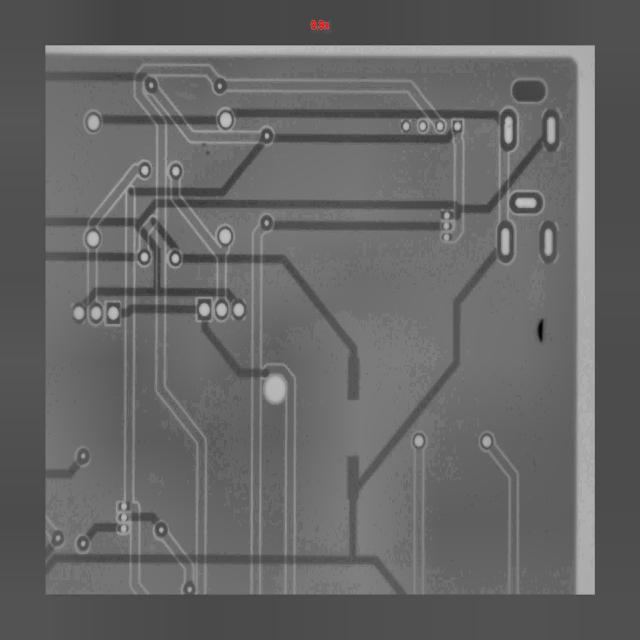Both: (261, 372, 289, 406), (512, 80, 546, 103), (542, 110, 561, 151), (497, 220, 514, 263), (510, 192, 543, 214), (500, 110, 517, 152), (540, 221, 556, 263), (151, 519, 171, 542), (478, 432, 497, 453), (84, 112, 102, 133), (218, 110, 235, 131), (84, 229, 101, 249), (75, 534, 92, 554), (197, 300, 212, 321), (106, 302, 121, 323), (218, 226, 233, 246), (211, 77, 227, 94), (169, 162, 183, 181), (76, 448, 90, 467), (89, 305, 102, 324), (72, 304, 86, 321), (50, 530, 64, 547), (215, 300, 228, 318), (169, 249, 182, 267), (117, 500, 132, 515), (139, 162, 152, 179), (145, 77, 158, 94), (232, 301, 245, 317), (261, 128, 274, 144), (140, 250, 150, 267), (414, 435, 425, 449), (119, 522, 130, 536), (184, 580, 195, 593), (120, 512, 130, 526), (261, 215, 271, 228), (453, 120, 462, 133), (436, 121, 444, 133), (419, 121, 427, 132), (443, 211, 452, 220), (443, 222, 452, 230), (403, 122, 410, 131), (443, 234, 451, 241)
L1: (37, 224, 631, 640), (43, 94, 561, 342), (178, 204, 386, 430), (125, 133, 278, 231), (188, 318, 273, 392), (231, 106, 499, 124), (271, 128, 455, 145), (272, 221, 442, 231), (148, 217, 180, 254), (101, 114, 219, 124), (120, 302, 198, 317), (45, 71, 149, 82), (83, 515, 121, 543), (45, 251, 141, 262), (45, 461, 80, 479), (129, 511, 160, 525), (40, 541, 56, 559)
L2: (121, 61, 220, 595), (111, 184, 151, 596), (142, 175, 254, 306), (139, 84, 267, 171), (224, 77, 443, 126), (261, 362, 297, 595), (247, 224, 266, 595), (488, 443, 525, 596), (86, 163, 142, 232), (152, 531, 206, 592), (412, 450, 425, 594), (451, 133, 465, 244), (133, 212, 159, 253), (498, 149, 510, 221), (89, 250, 96, 308)
